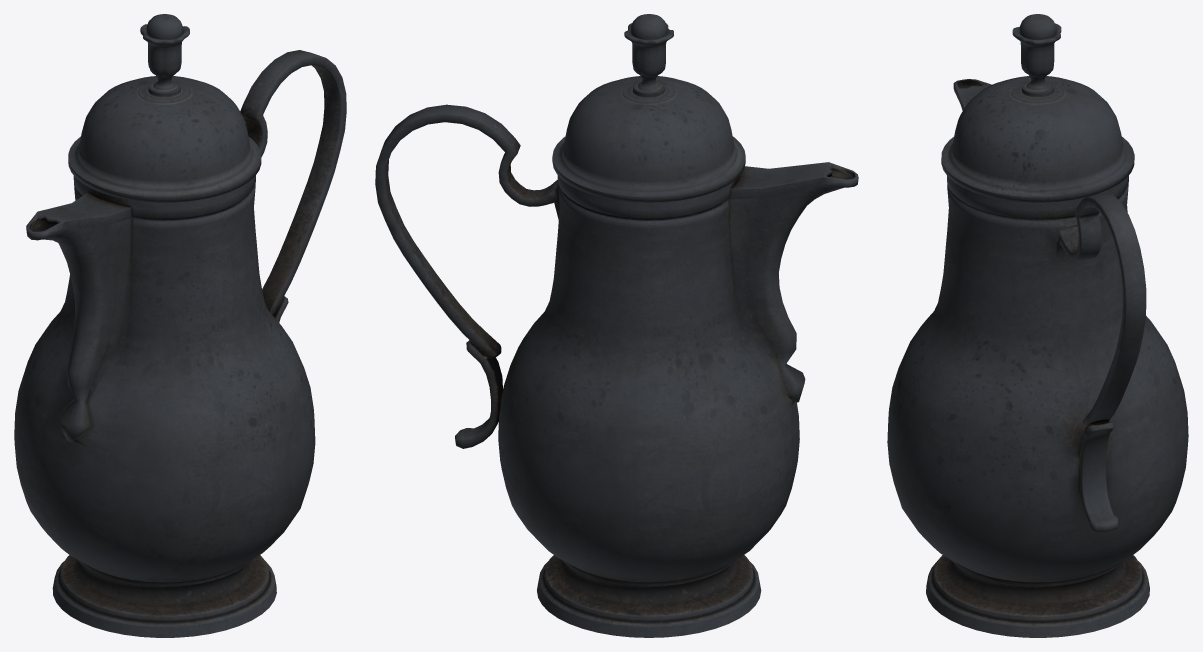
The model's file is obj_metal_jug_486c58.glb.
3 renders of one model, left to right at view 1: azimuth 30°, elevation 25°; view 2: azimuth 150°, elevation 25°; view 3: azimuth 270°, elevation 25°, orthographic.
Parts seen in each view (by area): view 1: obj_metal_jug_486c58; view 2: obj_metal_jug_486c58; view 3: obj_metal_jug_486c58.
Boxes of the visible parts, x1=… form: obj_metal_jug_486c58: x1=14, y1=14, x2=346, y2=637; obj_metal_jug_486c58: x1=375, y1=14, x2=858, y2=637; obj_metal_jug_486c58: x1=887, y1=14, x2=1188, y2=637.
Size of the model in its own units: 0.16 by 0.22 by 0.1047.
Materials: 1 (1 with a texture image).
